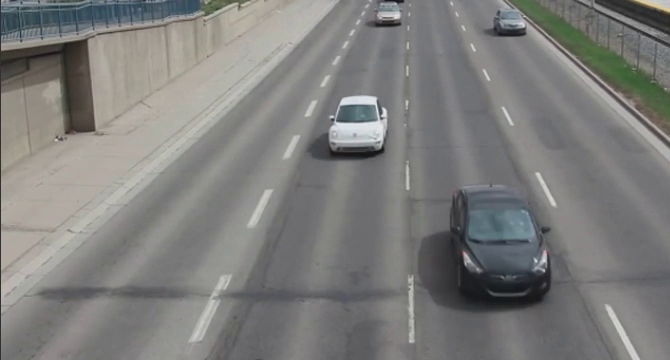car: (441, 180, 554, 311), (326, 95, 388, 155), (493, 7, 530, 38), (375, 2, 407, 26)
